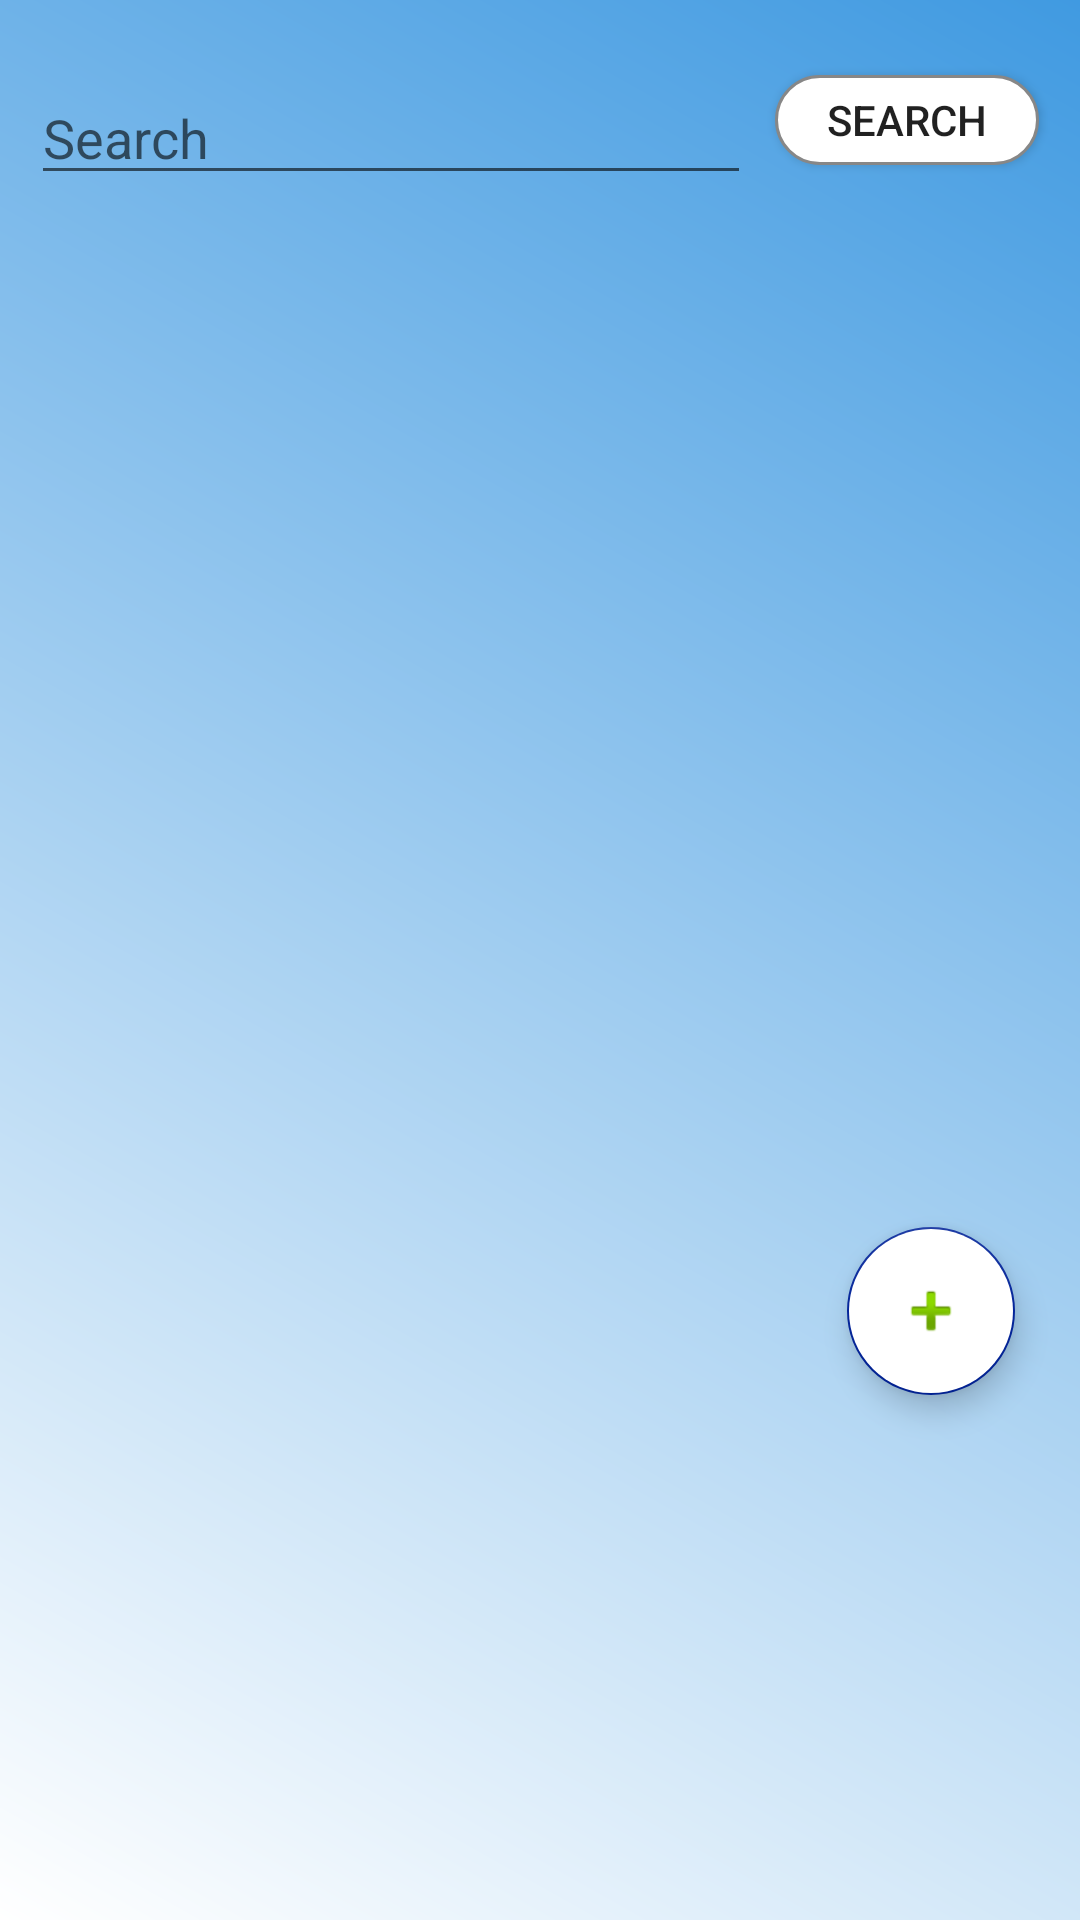

Icon click points for this 1080 × 1920 phone screenshot, format (x=x, y=y):
add: (x=931, y=1311)
